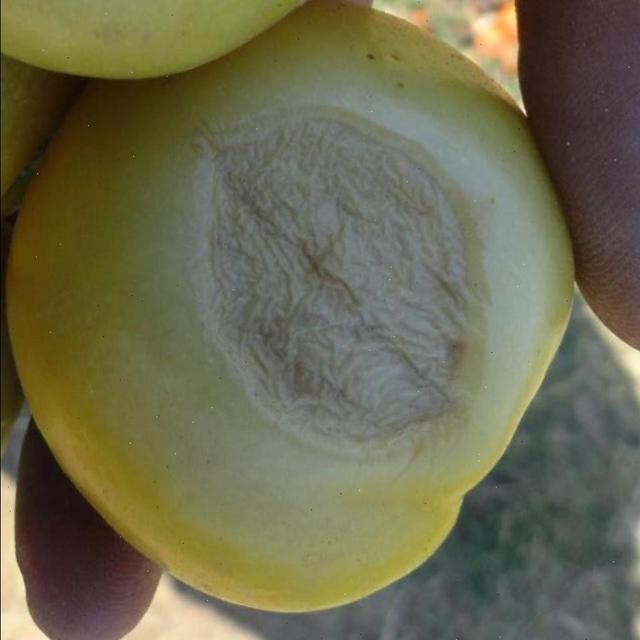Sunscald Fruit: (79, 64, 339, 340)
